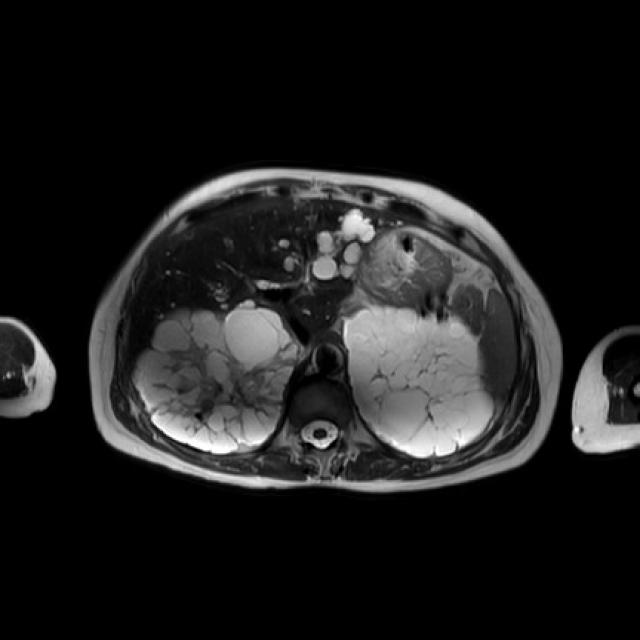sag: (137, 304, 297, 452)
sol: (339, 307, 498, 457)
